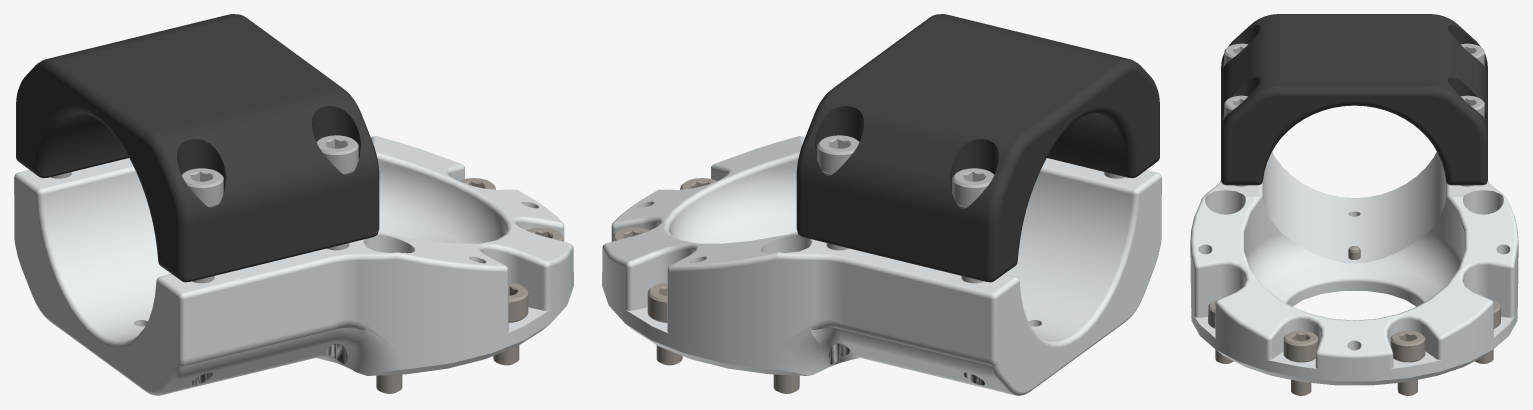
Rendered from A-2632-01_Input_Tube_Adapter_Size_55.obj.
3 renders of one model, left to right at view 1: azimuth 30°, elevation 25°; view 2: azimuth 150°, elevation 25°; view 3: azimuth 270°, elevation 25°, orthographic. The views are drawn at different scales.
Visible parts, largest first — view 1: mesh 3 Fillet2, mesh 2 PM-3232-01-1, mesh 1 PP-2410-25-1, mesh 5 Fillet27 face; view 2: mesh 3 Fillet2, mesh 2 PM-3232-01-1, mesh 1 PP-2410-25-1, mesh 5 Fillet27 face; view 3: mesh 3 Fillet2, mesh 2 PM-3232-01-1, mesh 5 Fillet27 face, mesh 1 PP-2410-25-1.
Part boxes in pixels (x1,y1,x2,y2): mesh 3 Fillet2: (14,136,573,395); mesh 2 PM-3232-01-1: (16,14,379,282); mesh 1 PP-2410-25-1: (50,135,358,283); mesh 5 Fillet27 face: (376,178,563,393); mesh 3 Fillet2: (602,136,1161,395); mesh 2 PM-3232-01-1: (796,14,1159,282); mesh 1 PP-2410-25-1: (817,135,1125,283); mesh 5 Fillet27 face: (612,178,799,393); mesh 3 Fillet2: (1190,152,1518,385); mesh 2 PM-3232-01-1: (1221,14,1487,185); mesh 5 Fillet27 face: (1208,246,1500,395); mesh 1 PP-2410-25-1: (1224,43,1484,186).
Bounding box in the file's own units: 0.1 × 0.06 × 0.08.
